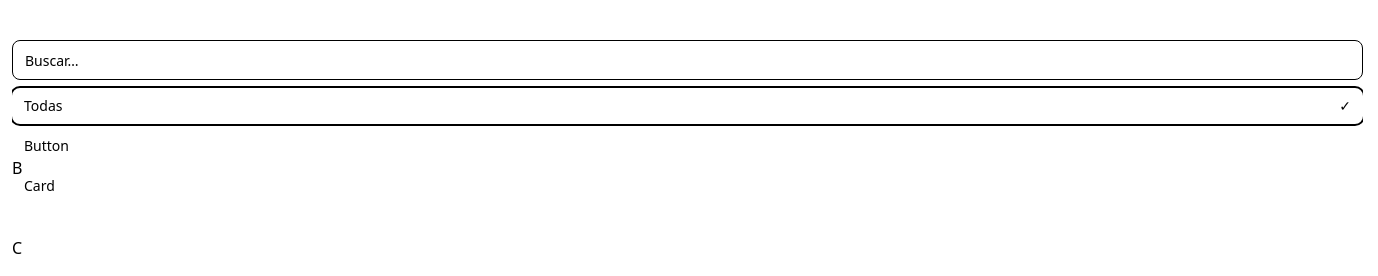
Test: ShowcaseView › the "Todas" option restores everything
Click the option "Card" at coordinates (39, 186), box x1=24 y1=176 x2=55 y2=195
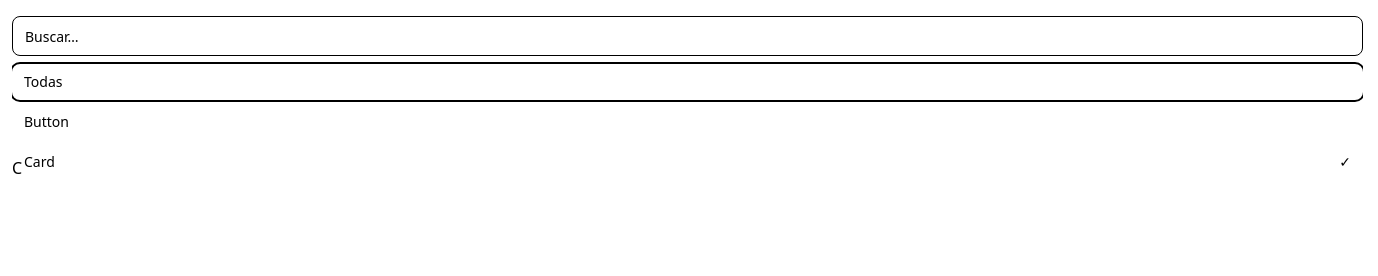
Click the option "Todas" at coordinates (43, 82), box x1=24 y1=72 x2=62 y2=91
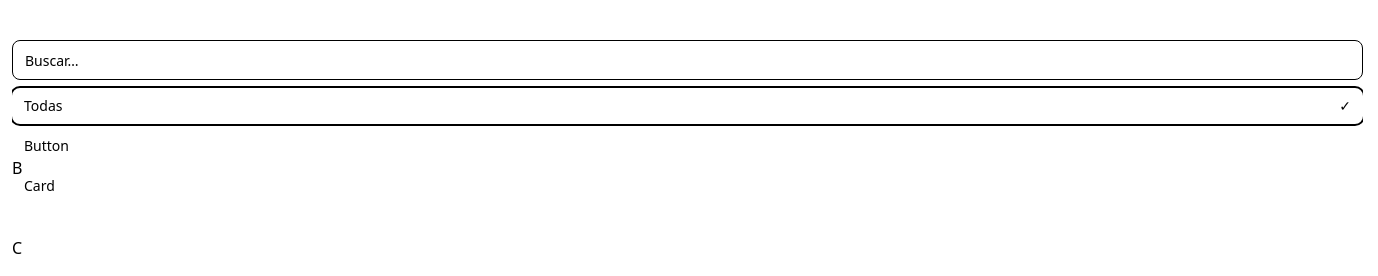
Check: the text named "Card" is shown, box x1=12 y1=237 x2=22 y2=259
Check: the text named "Button" is shown, box x1=12 y1=157 x2=22 y2=179
